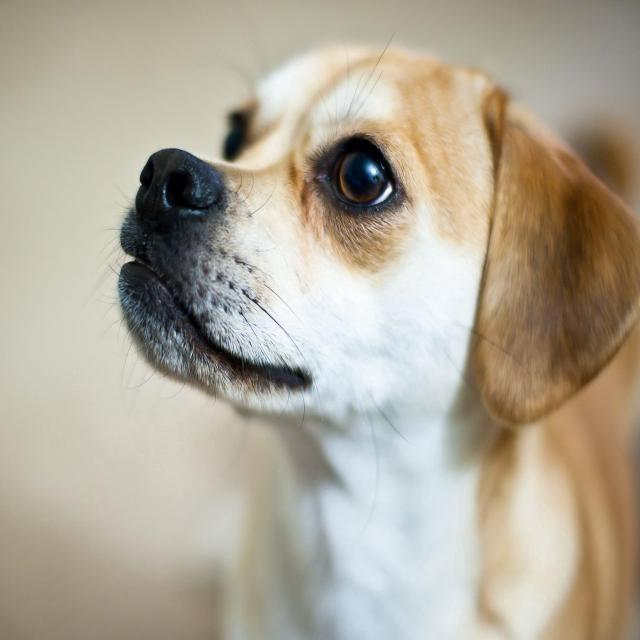eye: (314, 133, 404, 216)
